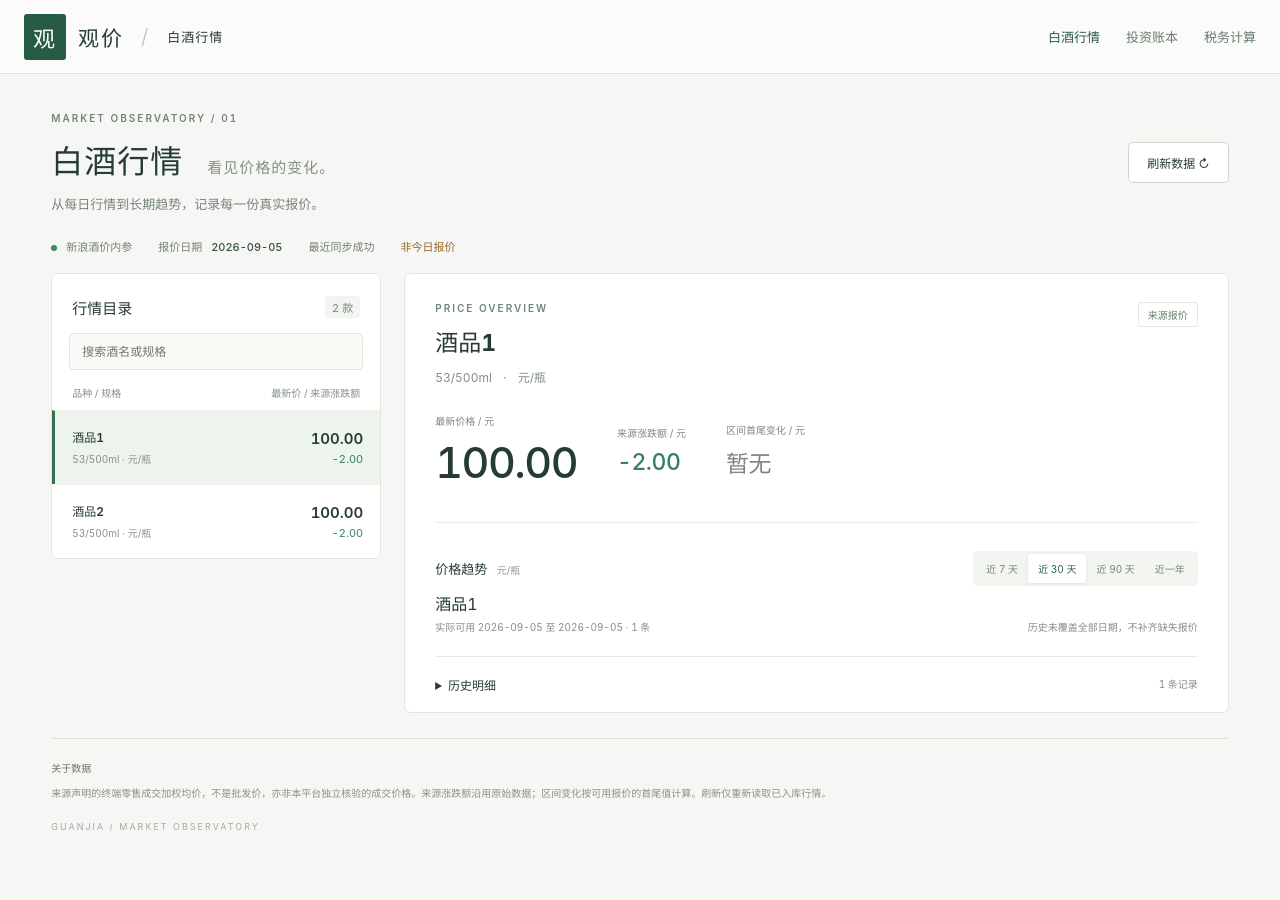
refreshes stored data without a sync POST, and retains last-good quotes on refresh failure
The image size is (1280, 900).
Click the button with class "refresh": (1178,162) x1=1128 y1=142 x2=1229 y2=183
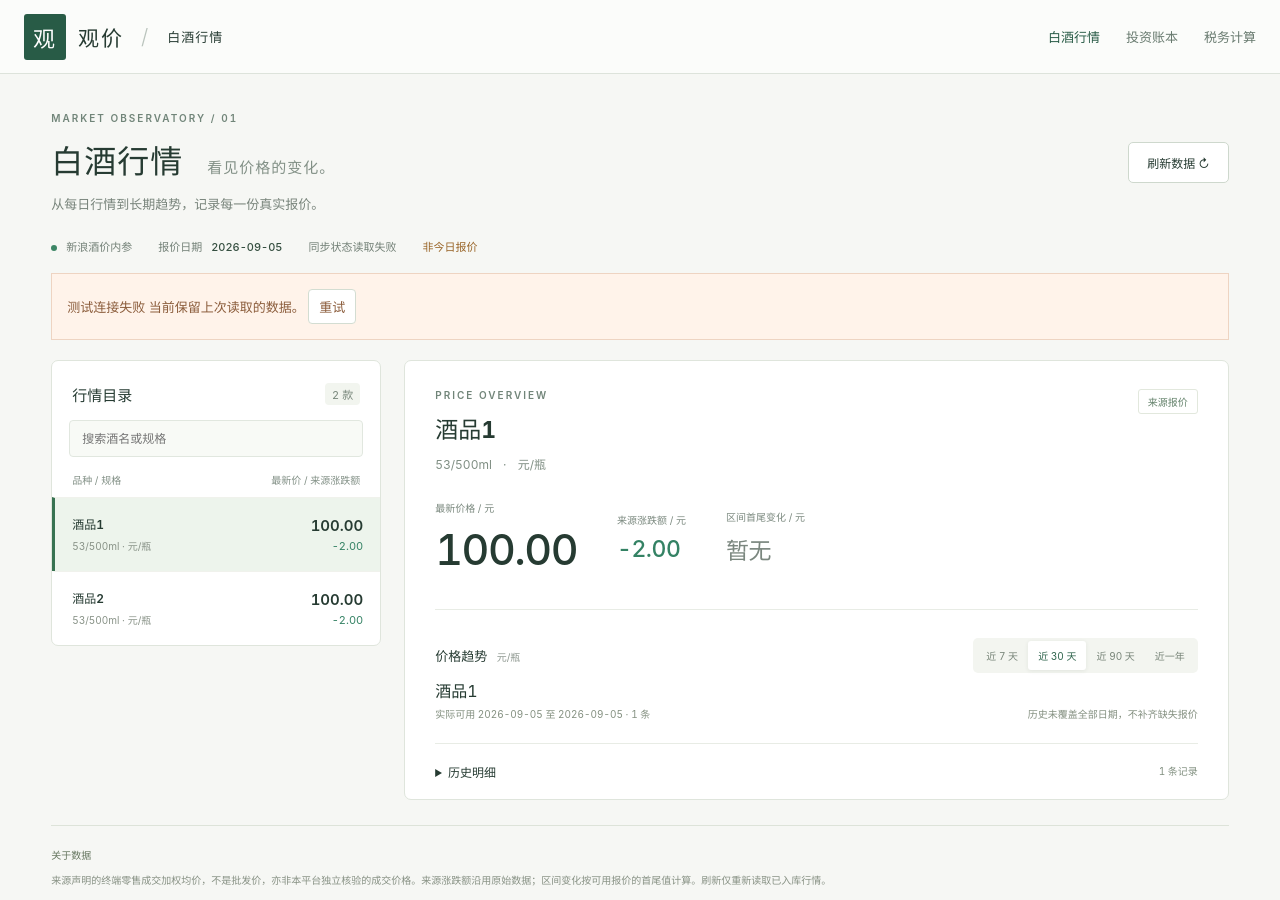
Expected: the text "当前保留上次读取的数据" is shown, x1=67 y1=299 x2=308 y2=315
